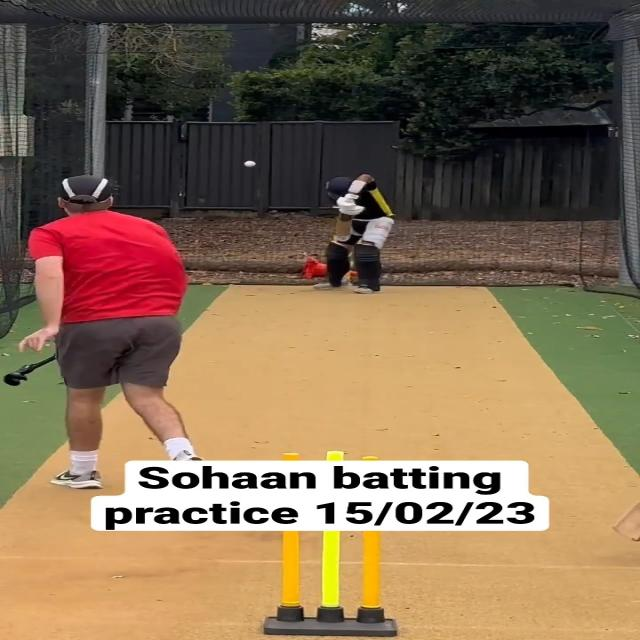ball: (242, 160, 258, 168)
stump: (262, 530, 400, 640)
